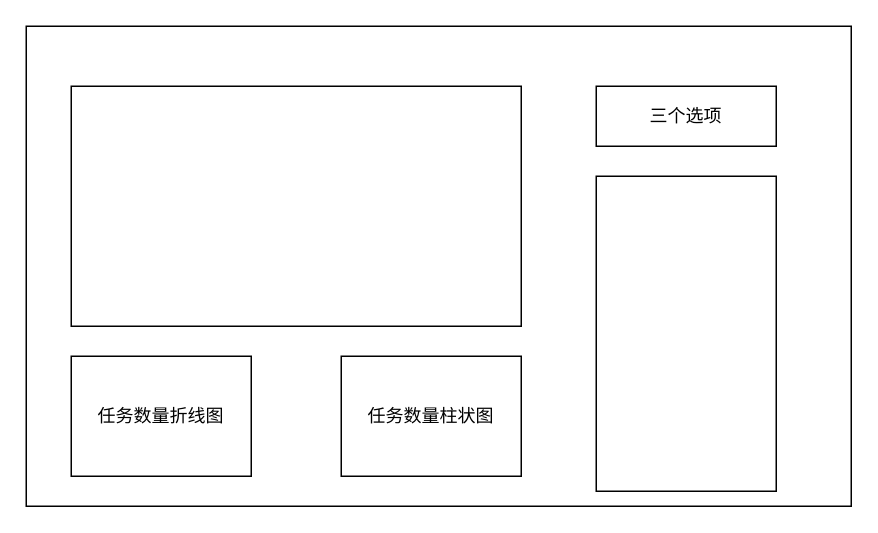
Image size: 878x533. Some labels were removed from this diagram. The centre of each missing label's shape, as x and y in pixels:
kpi榜: the point at 685,333
任务状态分布饼图: the point at 295,205
